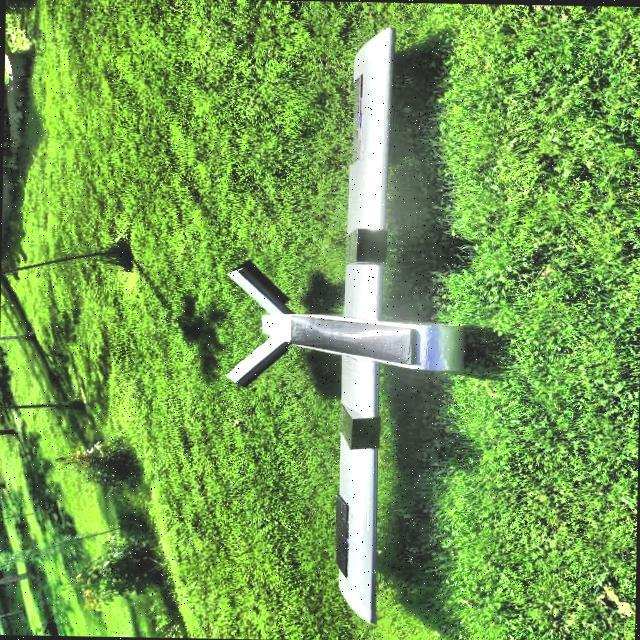iha: (211, 20, 491, 623)
